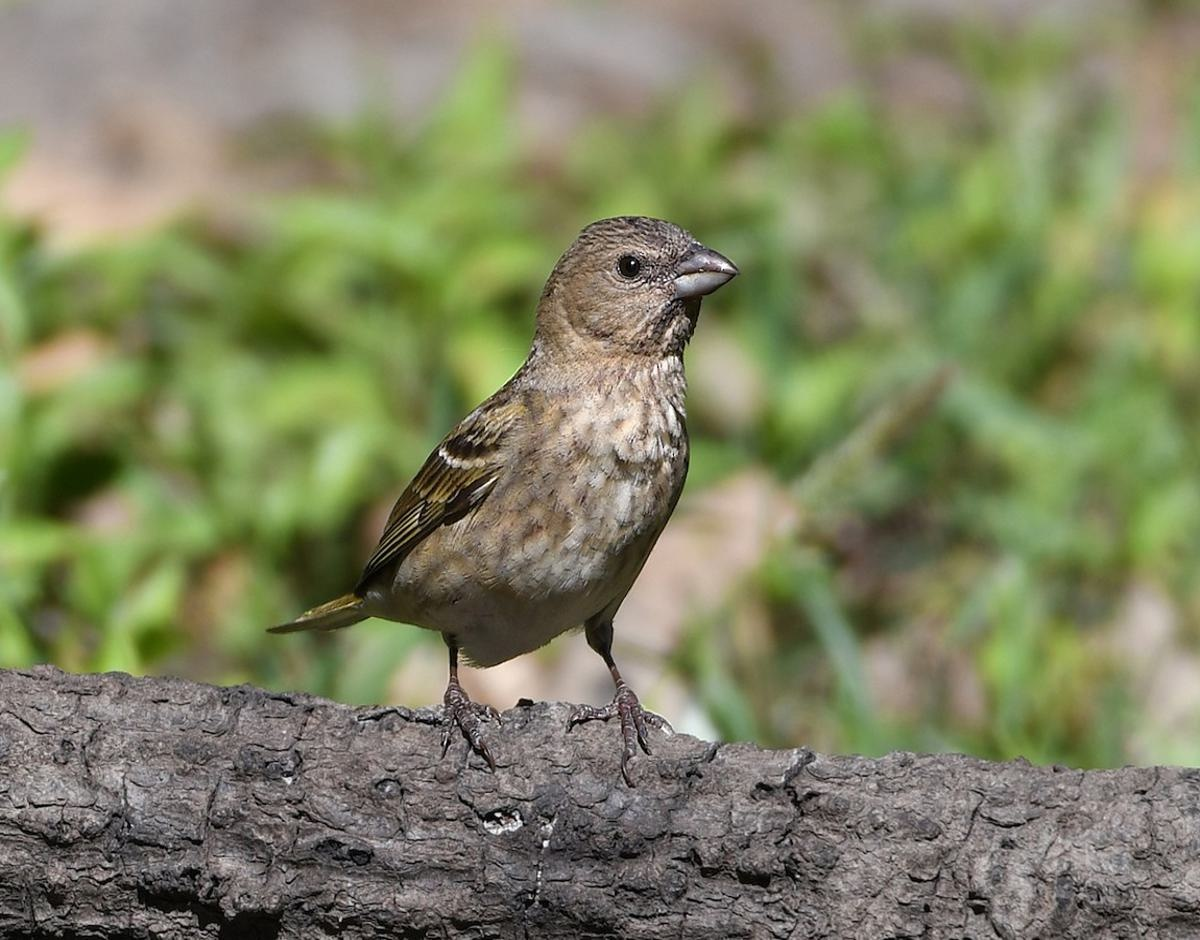rosefinch: (329, 189, 764, 715)
